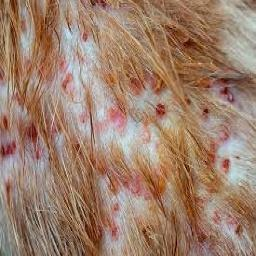pyoderma: (142, 56, 244, 181), (56, 23, 137, 153), (99, 162, 159, 256), (0, 108, 50, 212), (195, 194, 253, 256)
